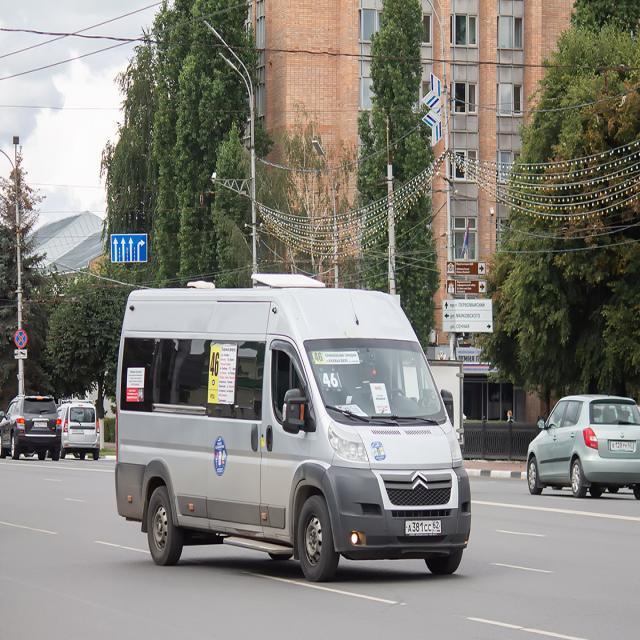number-of-bus: (322, 373, 341, 390), (210, 352, 221, 380), (315, 352, 324, 364)
